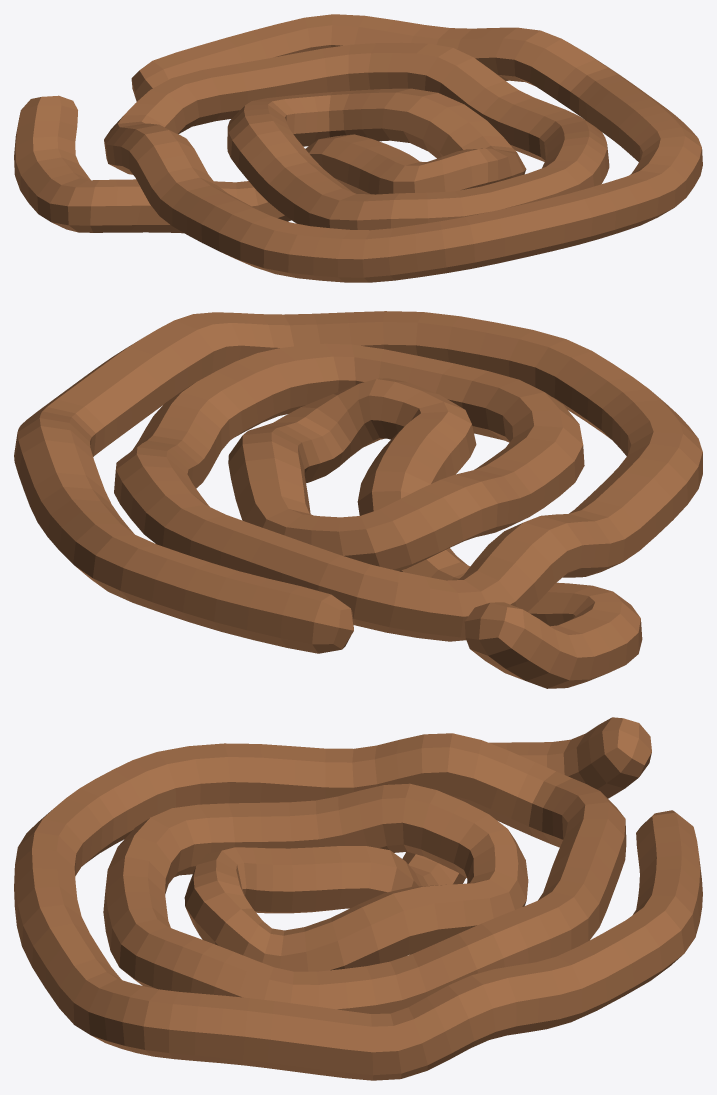
Rendered from Rope.fbx.
3 renders of one model, top to bottom at view 1: azimuth 30°, elevation 25°; view 2: azimuth 150°, elevation 25°; view 3: azimuth 270°, elevation 25°, orthographic. The views are drawn at different scales.
Visible parts, largest first — view 1: Plane; view 2: Plane; view 3: Plane.
Part boxes in pixels (x1,y1,x2,y2): Plane: [14, 14, 702, 282]; Plane: [14, 311, 702, 688]; Plane: [14, 717, 702, 1080].
Bounding box in the file's own units: 92.15 × 17.73 × 82.3.
